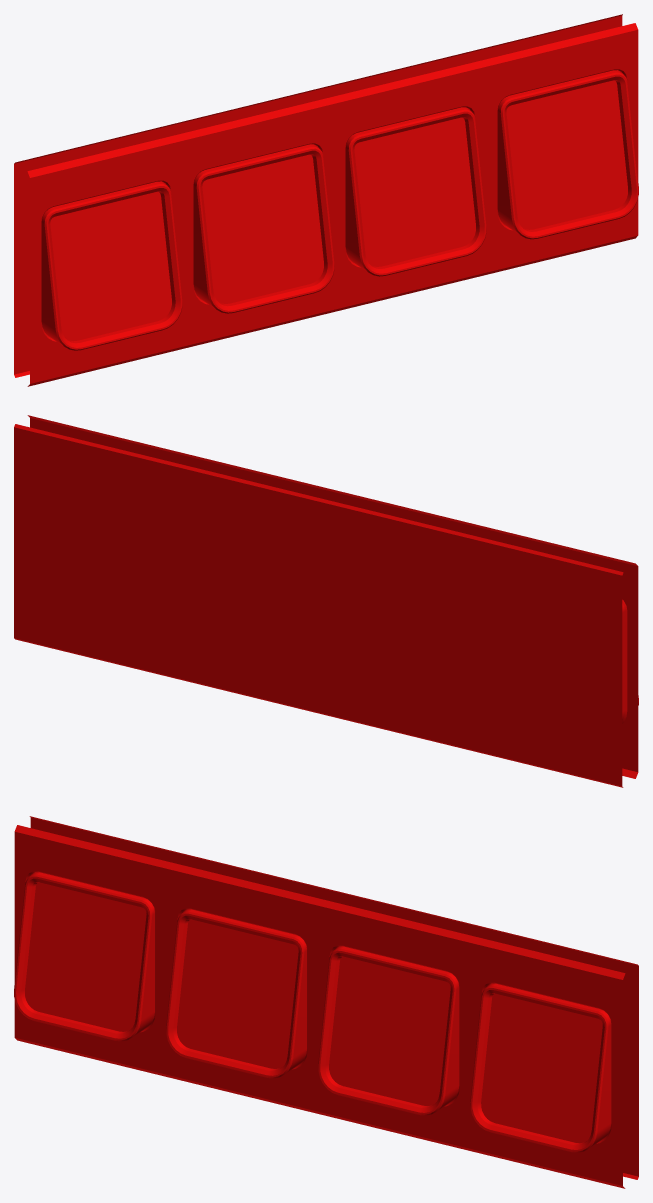
The model's file is Bottom_wall_3.fbx.
3 renders of one model, top to bottom at view 1: azimuth 30°, elevation 25°; view 2: azimuth 150°, elevation 25°; view 3: azimuth 330°, elevation 25°, orthographic.
Parts seen in each view (by area): view 1: L18:pCube134; view 2: L18:pCube134; view 3: L18:pCube134.
Part boxes in pixels (<box>): L18:pCube134: <box>14,14,638,386</box>; L18:pCube134: <box>14,415,638,787</box>; L18:pCube134: <box>14,816,638,1188</box>.
Bounding box in the file's own units: 434 × 147 × 40.14.
